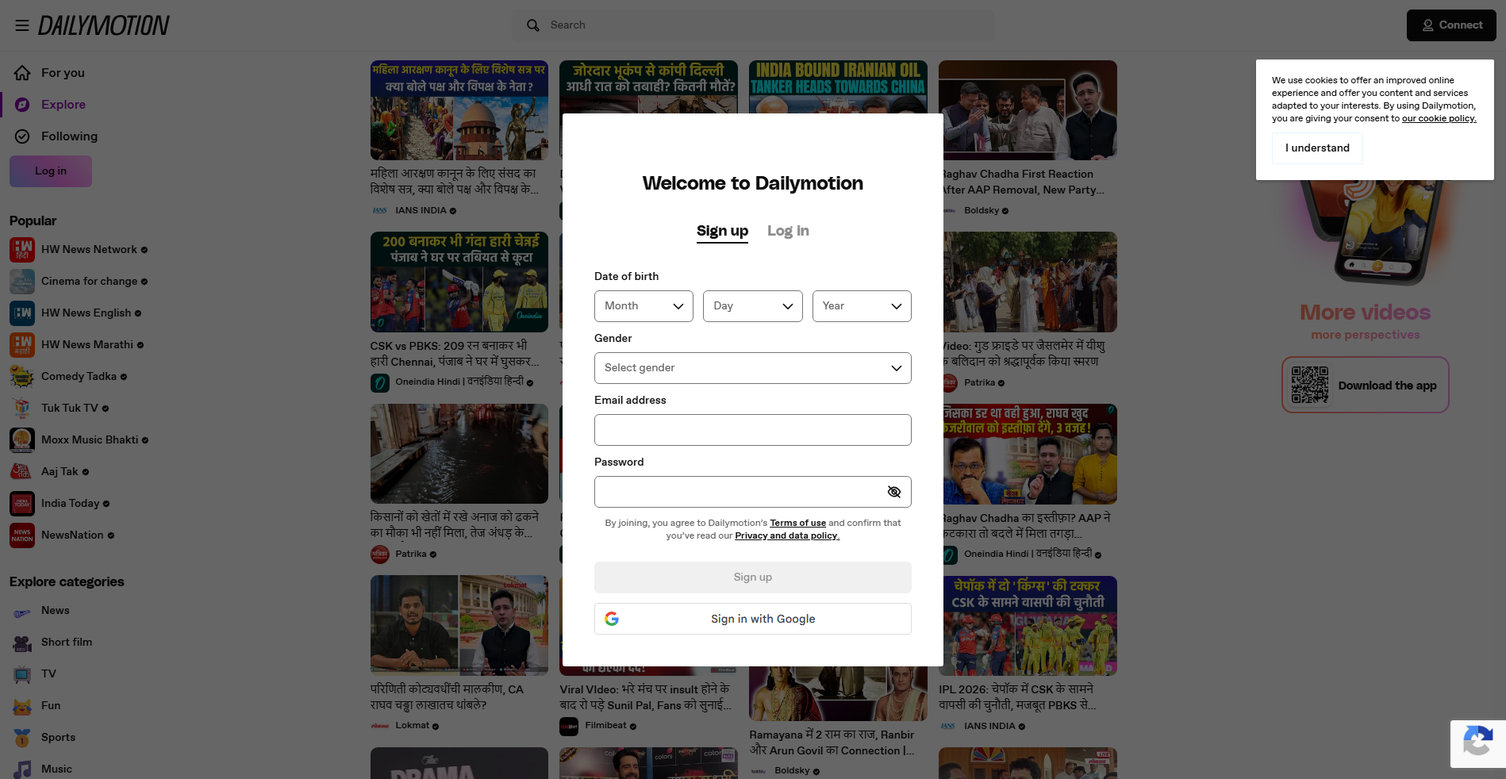general_button: (594, 561, 912, 653), (1004, 10, 1506, 41), (594, 352, 912, 384), (594, 561, 912, 593), (1282, 356, 1450, 413), (1283, 358, 1448, 412), (594, 290, 694, 322), (703, 290, 803, 322), (812, 290, 912, 322), (1272, 132, 1363, 164), (1407, 10, 1496, 41), (697, 221, 749, 242), (768, 221, 809, 242), (886, 484, 902, 499)
general_image: (1247, 57, 1485, 295)
general_input: (594, 414, 912, 445), (594, 476, 912, 507)
general_label: (594, 393, 912, 445), (594, 455, 912, 507), (594, 331, 632, 345)
general_link: (38, 15, 170, 36), (10, 124, 98, 149), (10, 60, 85, 86), (10, 92, 86, 117), (735, 530, 840, 542), (1402, 113, 1477, 125), (770, 517, 826, 530), (0, 0, 1, 1)
icon_menu: (10, 10, 35, 41)
icon_profile: (10, 155, 92, 187)
icon_search: (512, 10, 994, 41)
